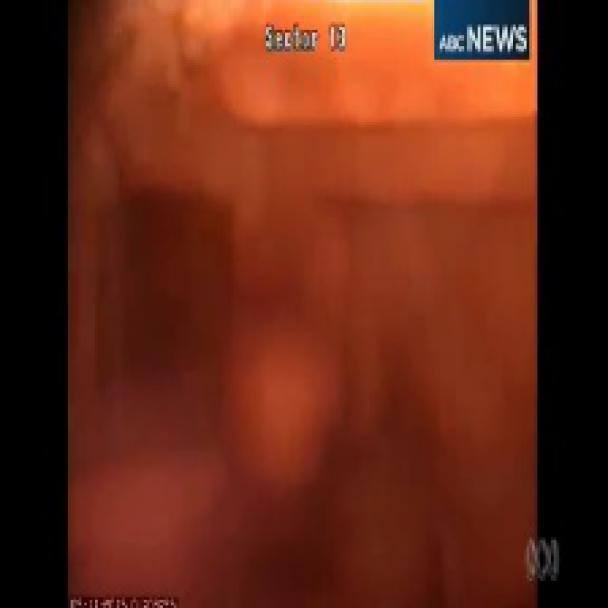smoke: (89, 0, 530, 606)
